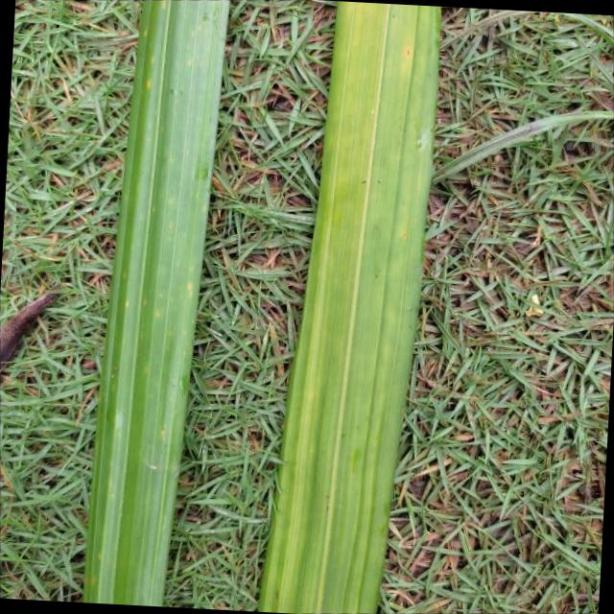nitrogen: (262, 0, 445, 614), (82, 0, 226, 614)
